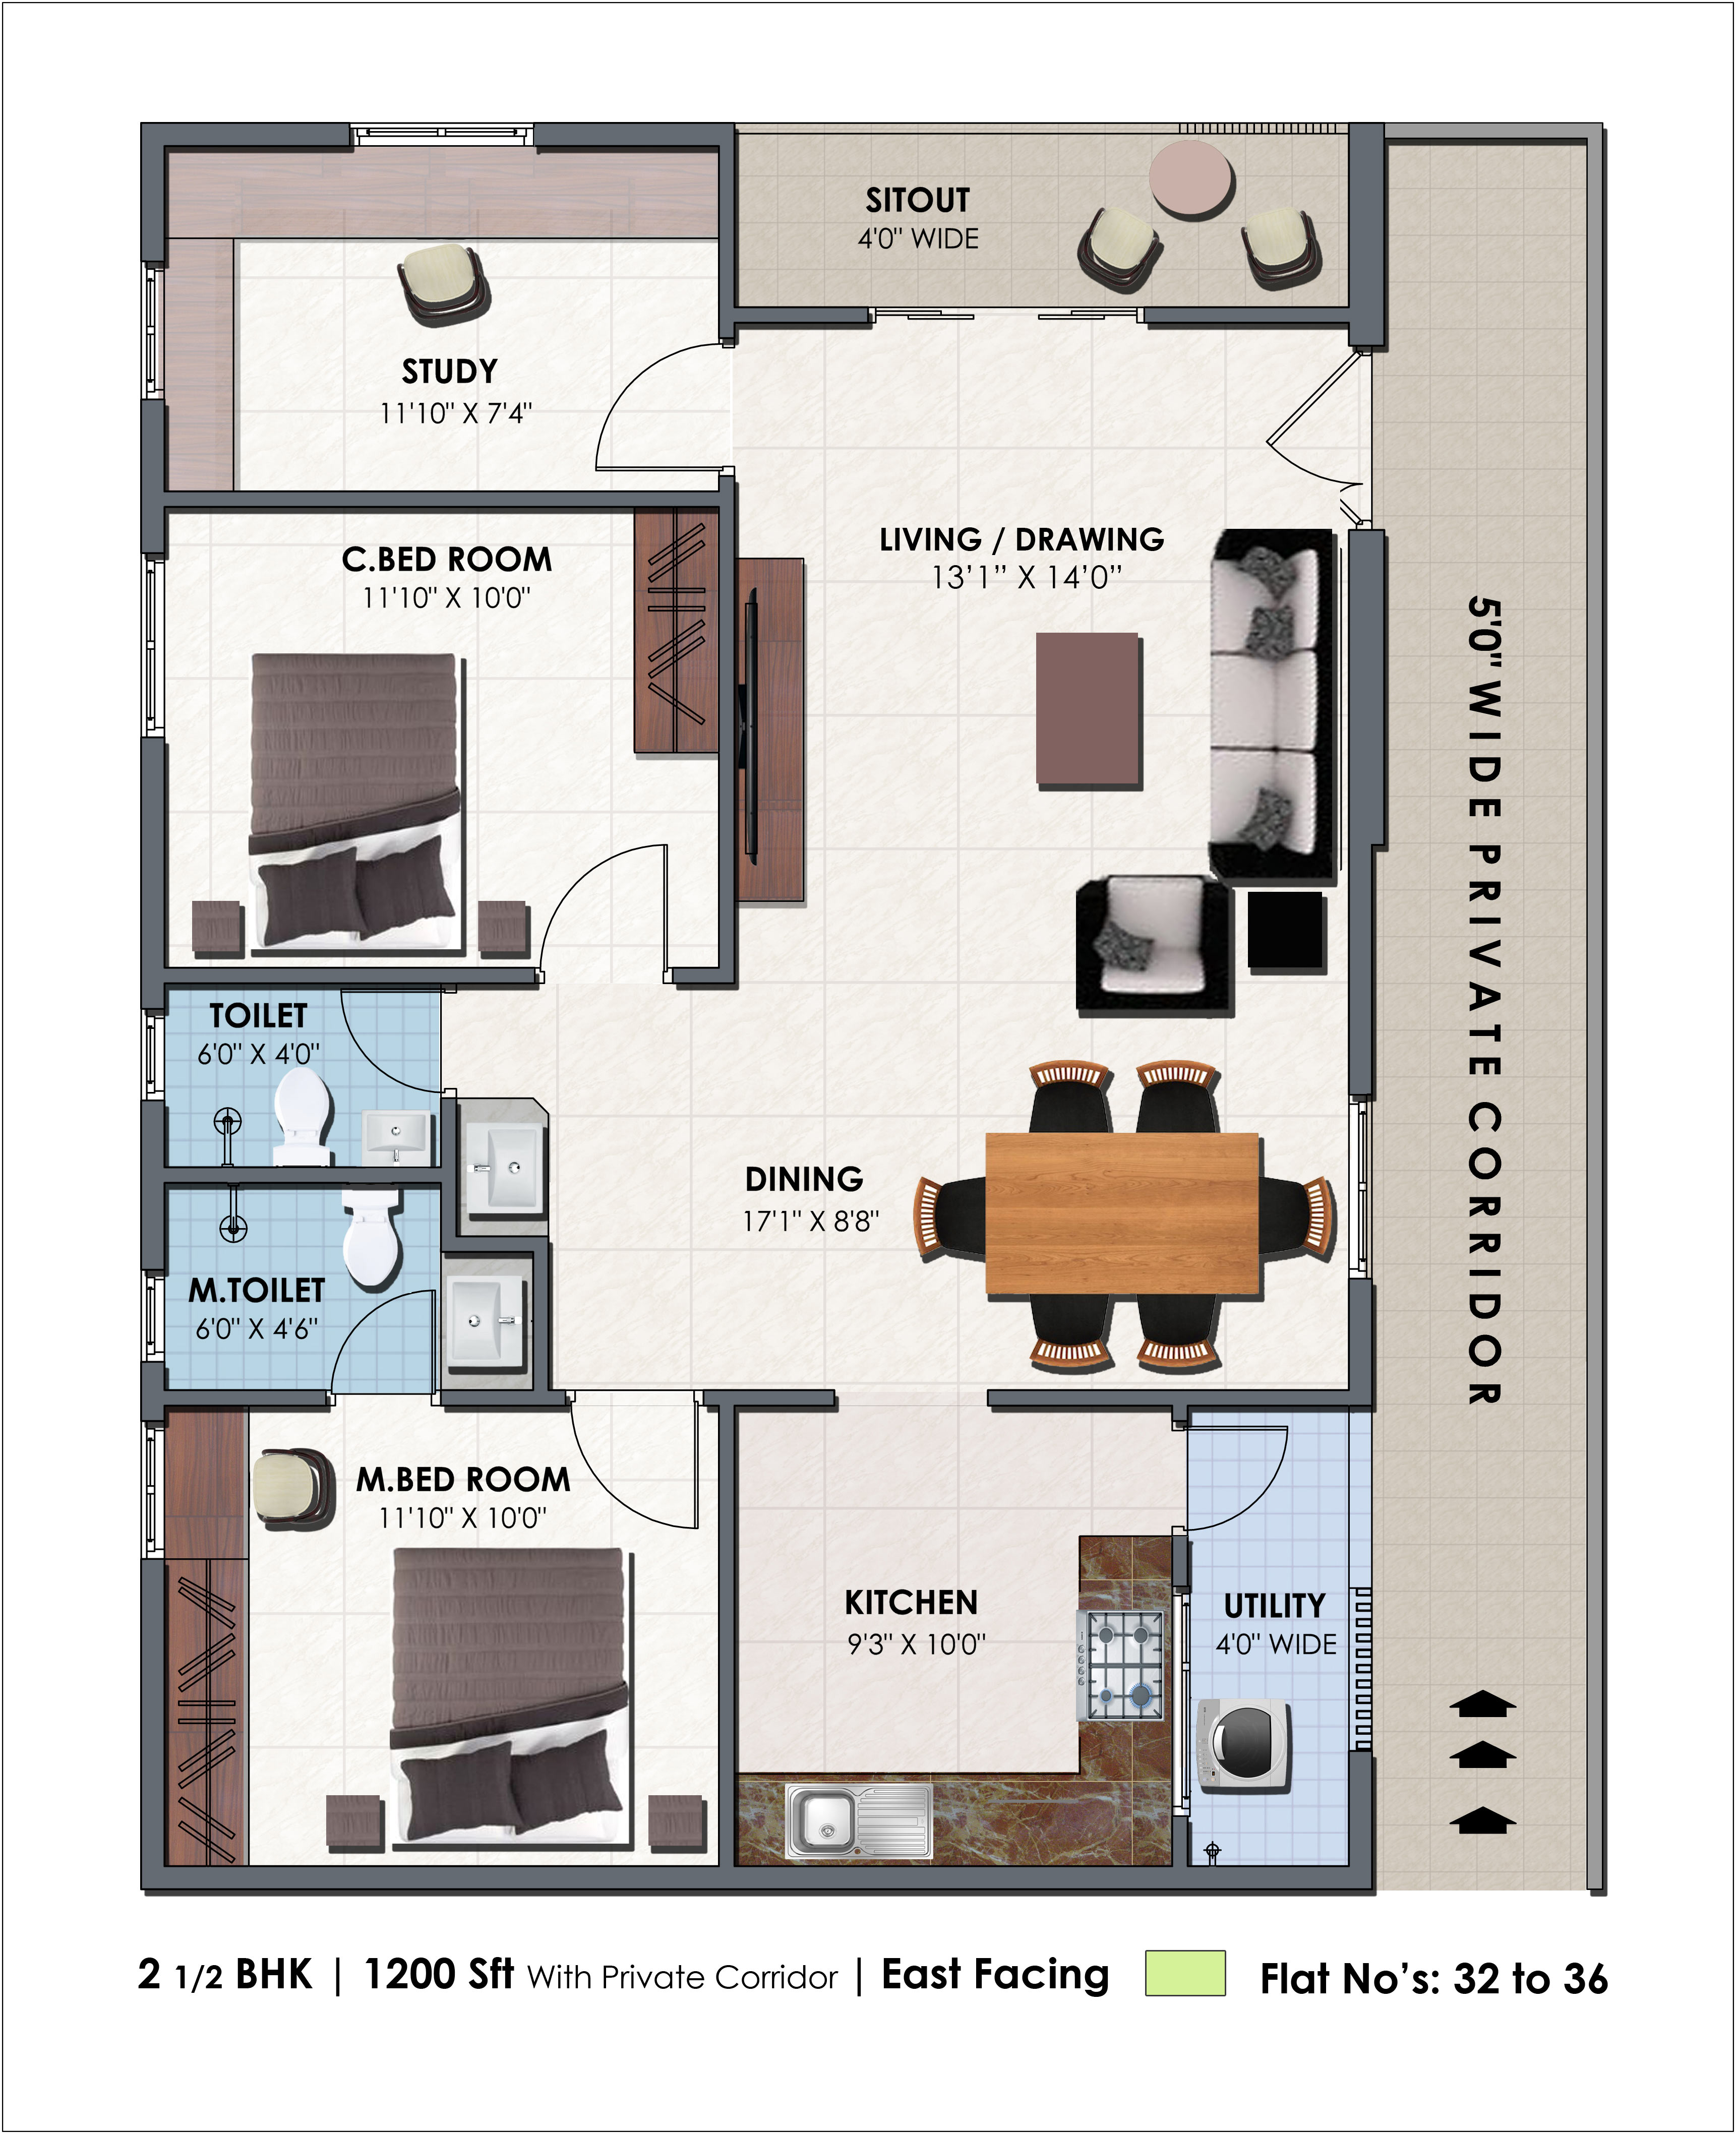window: (1341, 1086, 1378, 1286), (1166, 1585, 1197, 1817), (138, 549, 172, 740), (347, 122, 535, 149), (138, 259, 170, 406), (136, 1417, 168, 1564), (135, 1004, 170, 1107), (136, 1264, 172, 1367)
